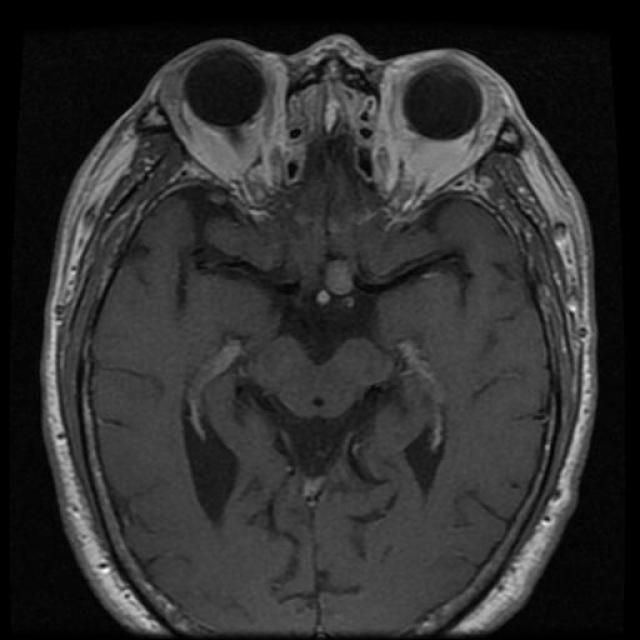pituitary: (223, 330, 404, 493)
